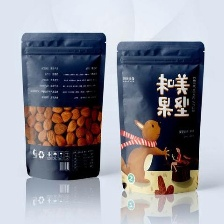snack: (111, 33, 213, 200), (16, 25, 113, 184)
